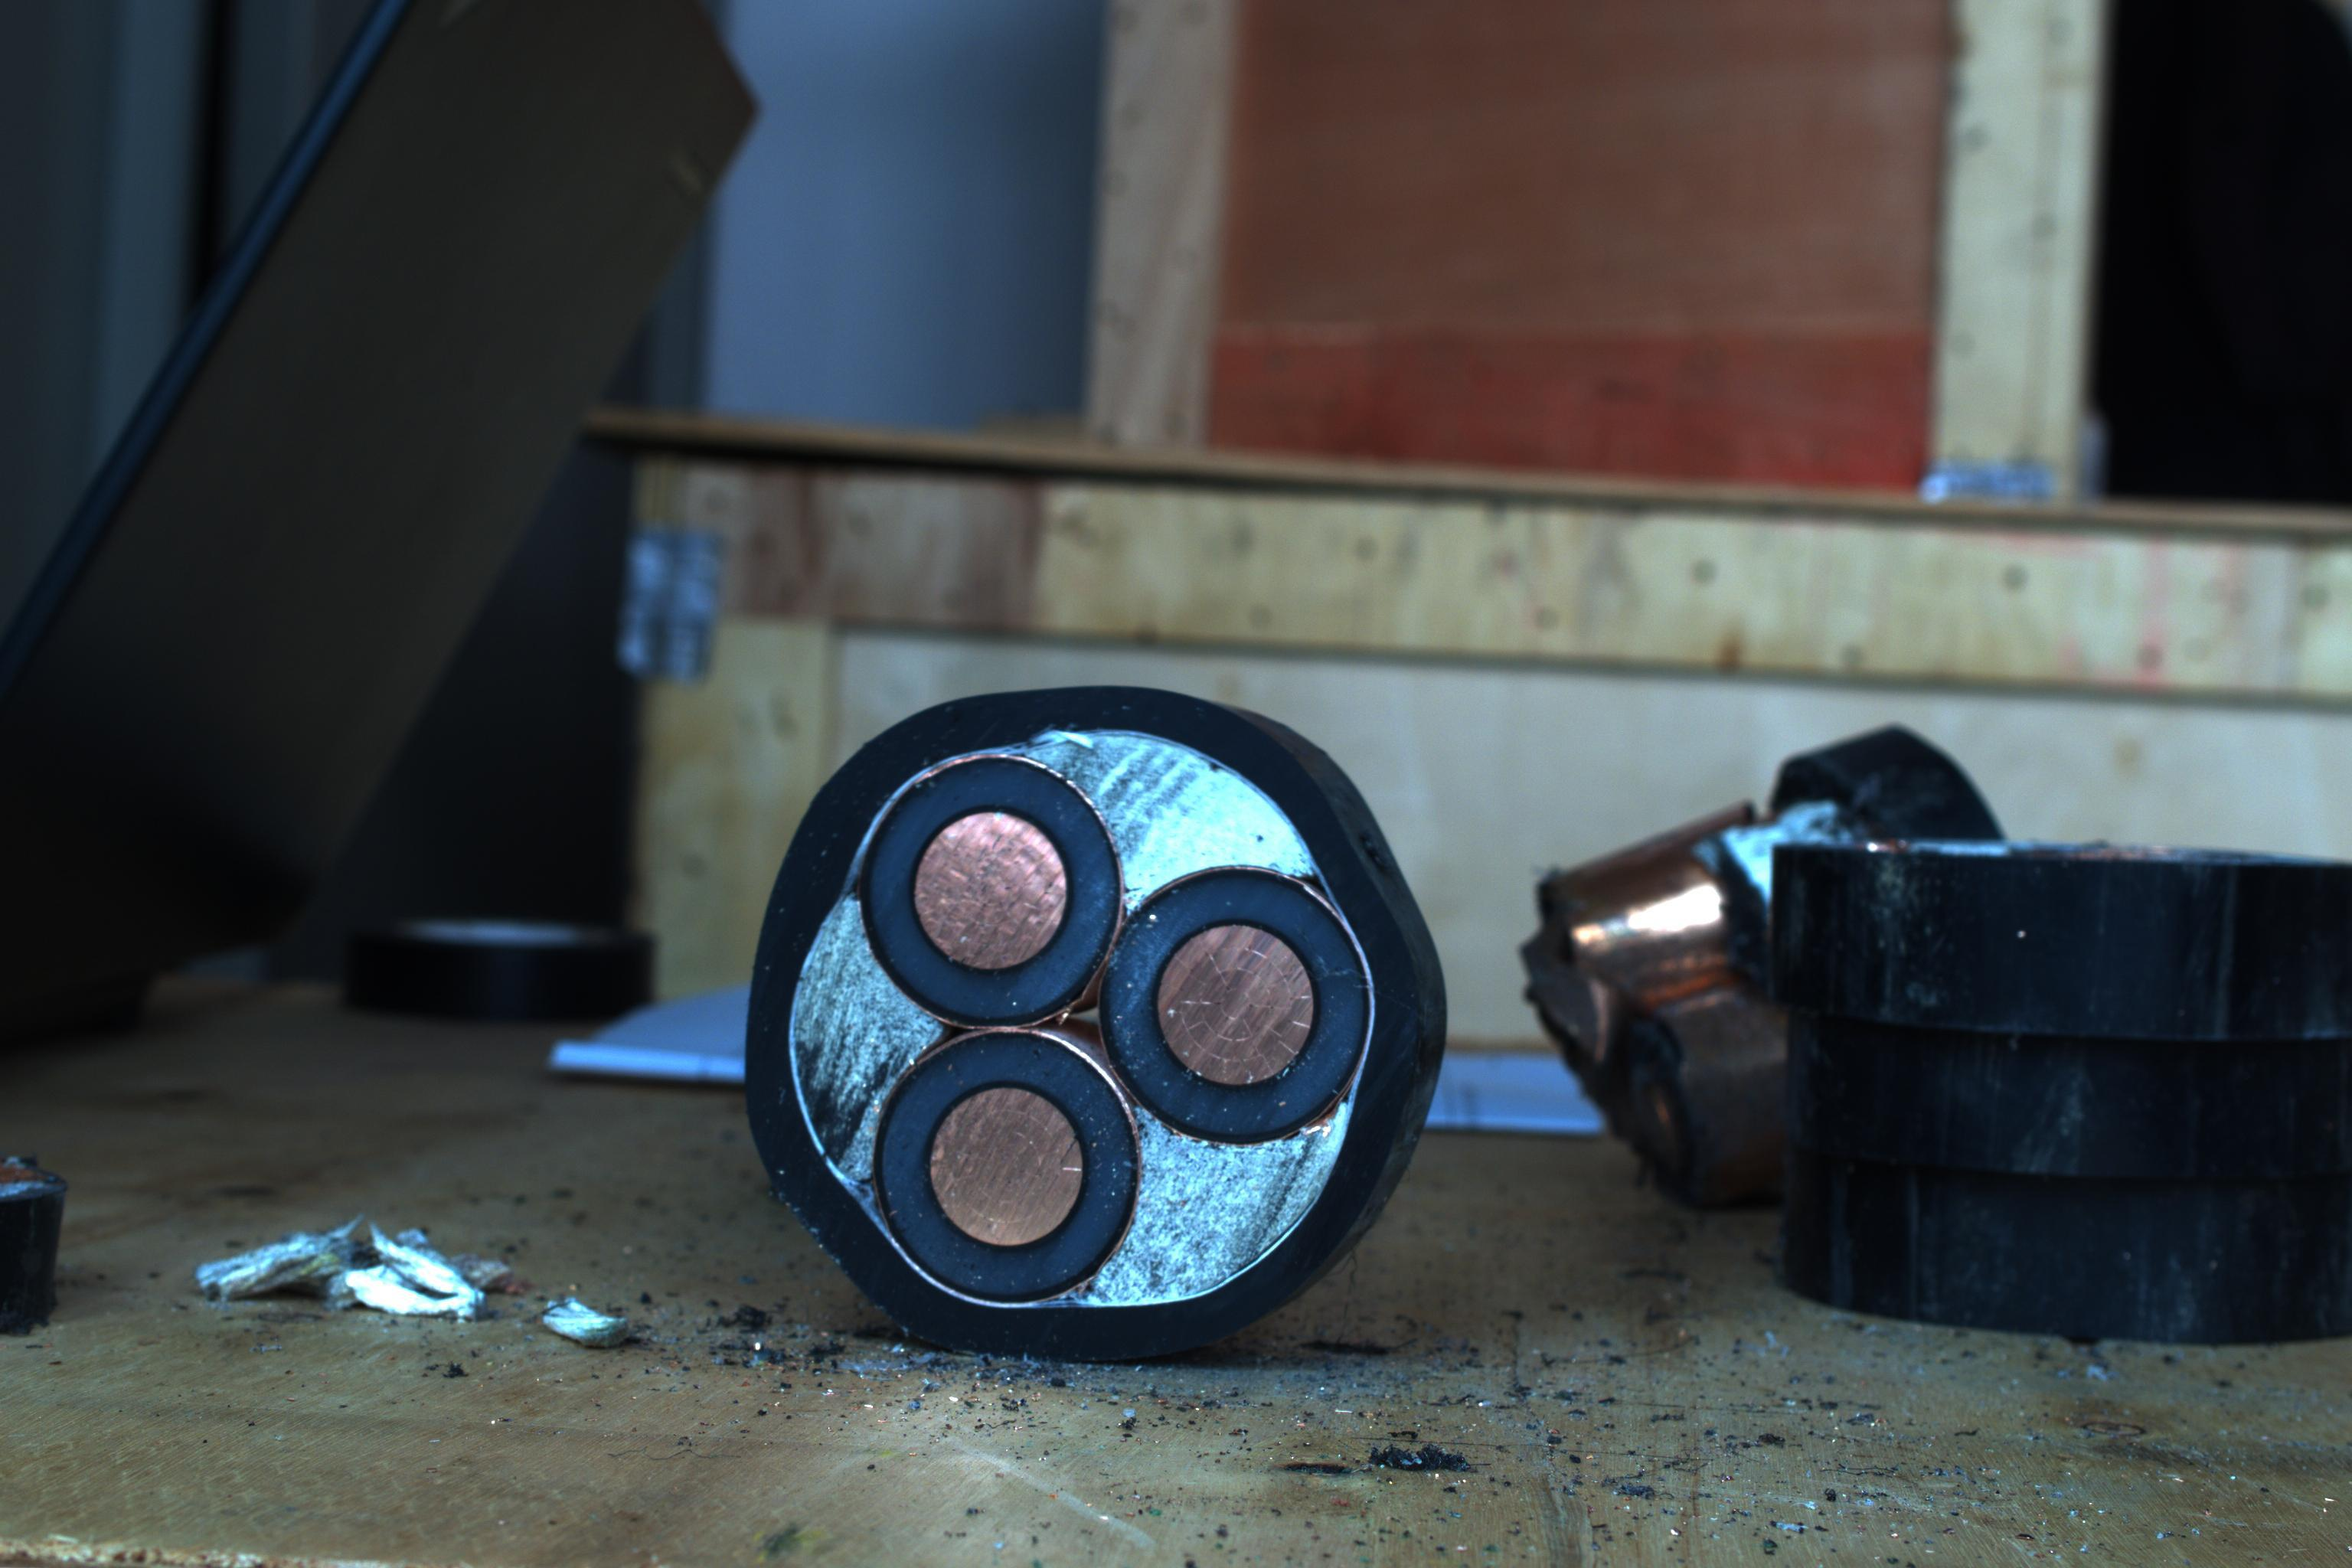ZA_YJV_8.7_10kV_3x240: (768, 695, 1396, 1363)
